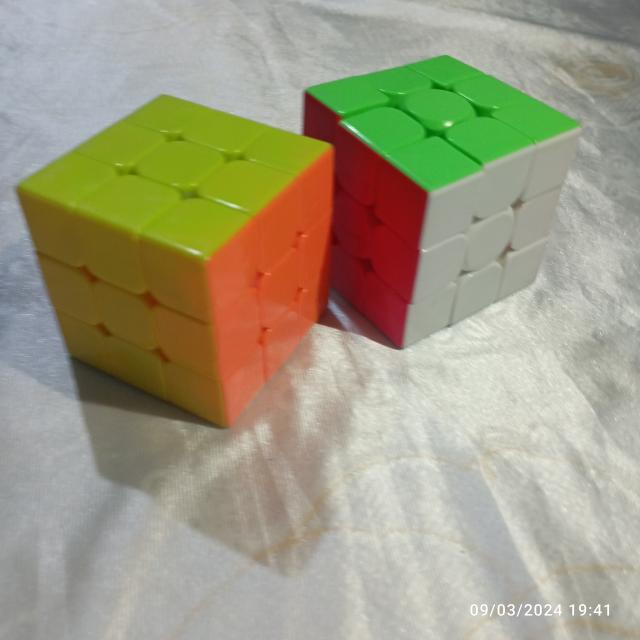Rub: (10, 85, 342, 435), (300, 50, 588, 354)
